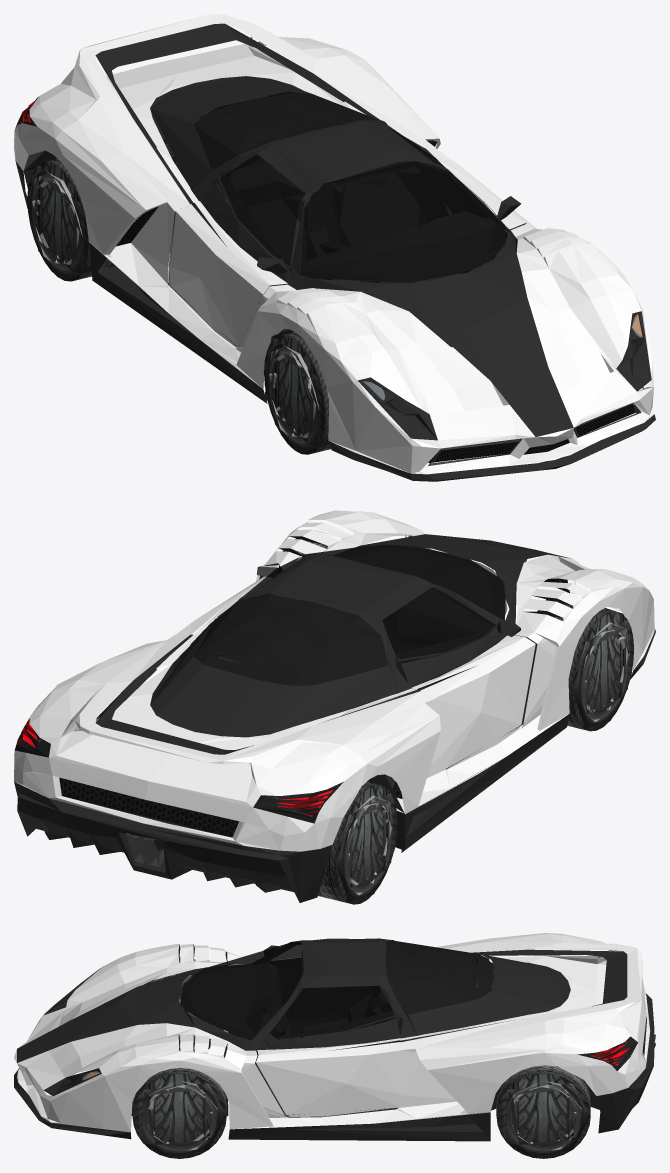
File: hc_lite_lo.glb
3 renders of one model, top to bottom at view 1: azimuth 30°, elevation 25°; view 2: azimuth 150°, elevation 25°; view 3: azimuth 270°, elevation 25°, orthographic. The views are drawn at different scales.
Parts seen in each view (by area): view 1: BODY, W0, W1; view 2: BODY, W1, W0; view 3: BODY, W2, W3.
Part boxes in pixels (bbox=[...]): BODY: bbox=[14, 14, 655, 481]; W0: bbox=[263, 332, 330, 454]; W1: bbox=[27, 159, 115, 281]; BODY: bbox=[14, 510, 655, 902]; W1: bbox=[318, 782, 397, 904]; W0: bbox=[551, 603, 633, 731]; BODY: bbox=[14, 933, 655, 1141]; W2: bbox=[496, 1065, 590, 1158]; W3: bbox=[132, 1068, 226, 1158].
Bounding box in the file's own units: 2.03 × 1.12 × 4.58.
Materials: 10 (4 with a texture image).
